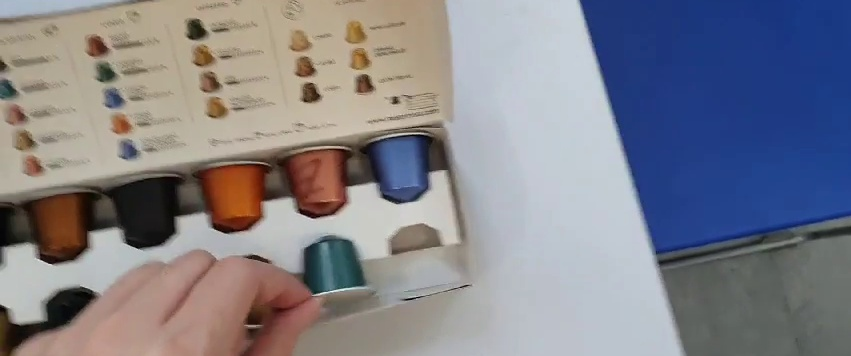capsule_13: (299, 232, 377, 304)
